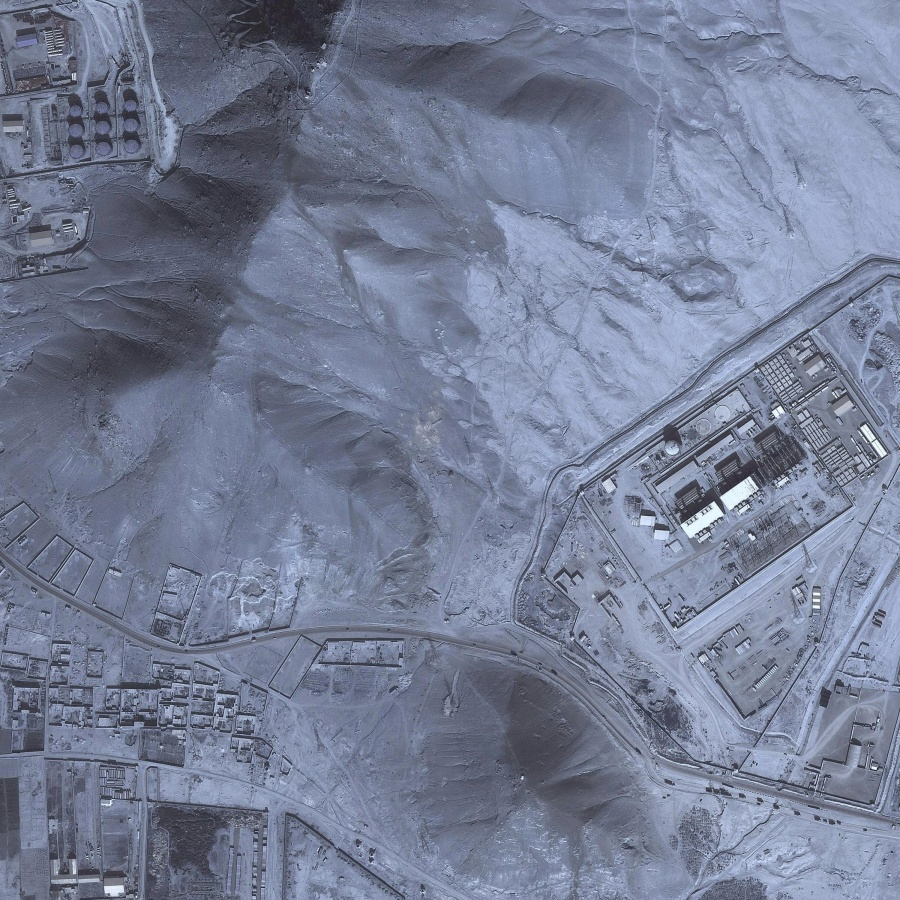PowerPlant: (638, 358, 887, 542)
